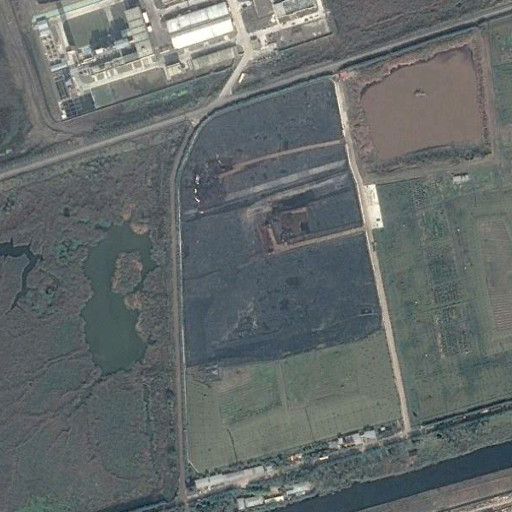lf: (180, 75, 385, 370)
